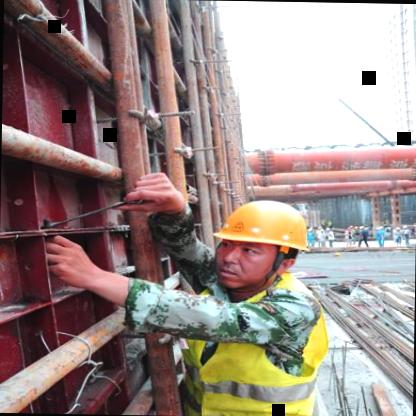helmet: (197, 190, 319, 298)
